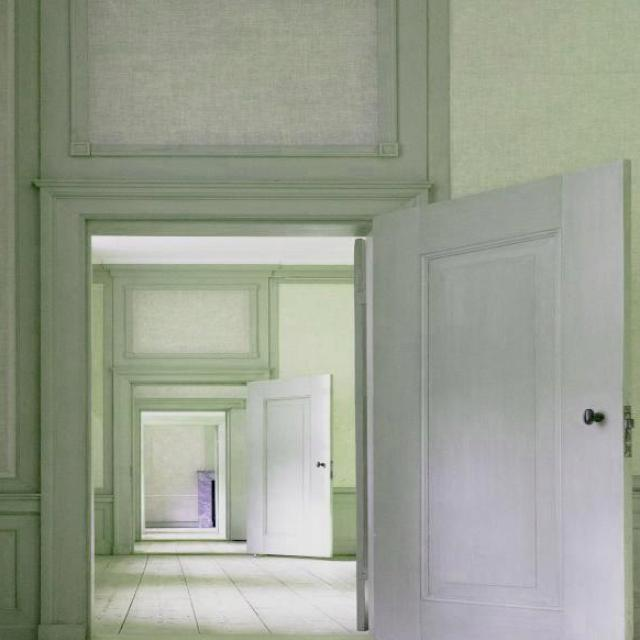door: (364, 158, 628, 638), (244, 366, 338, 566)
